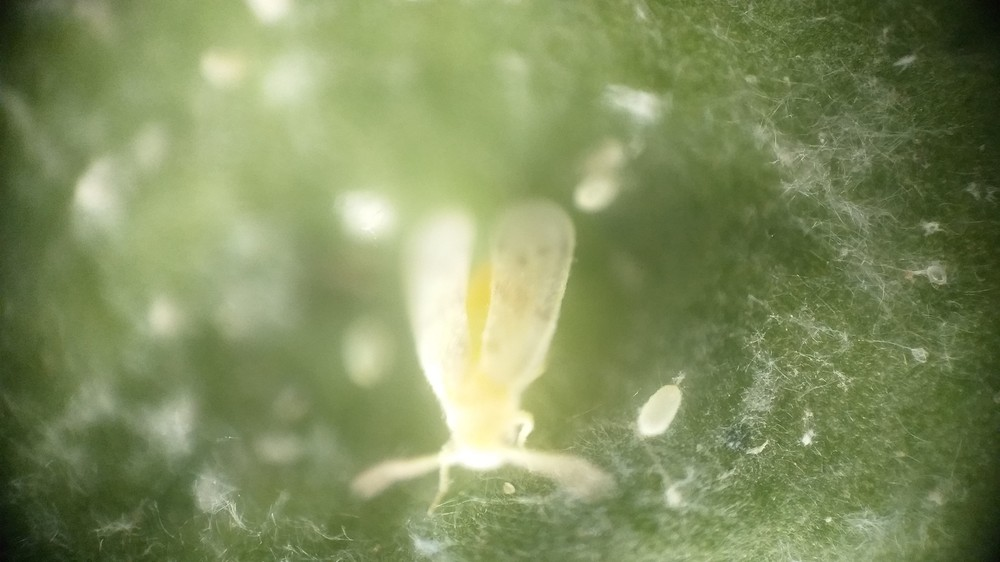Mosca Blanca: (351, 201, 623, 503)
